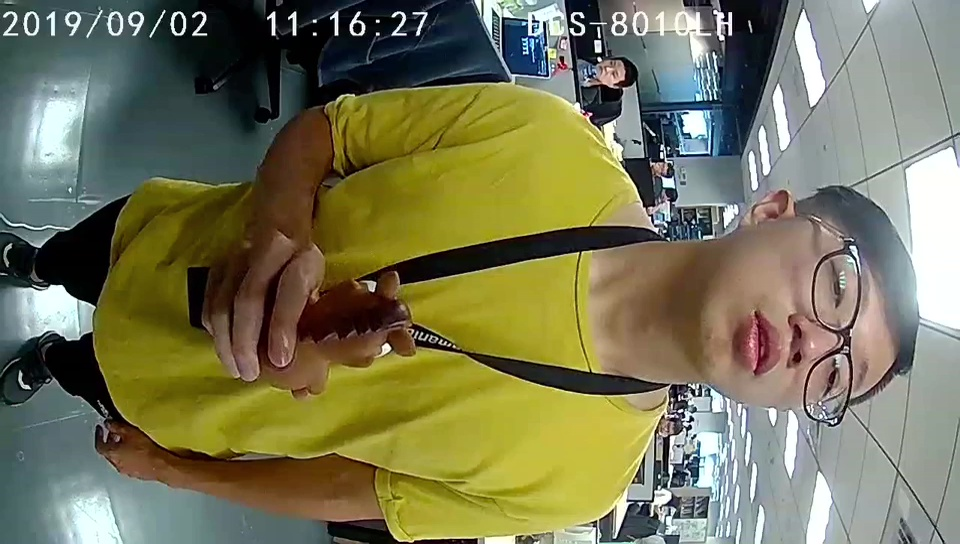horse: (307, 270, 417, 396)
